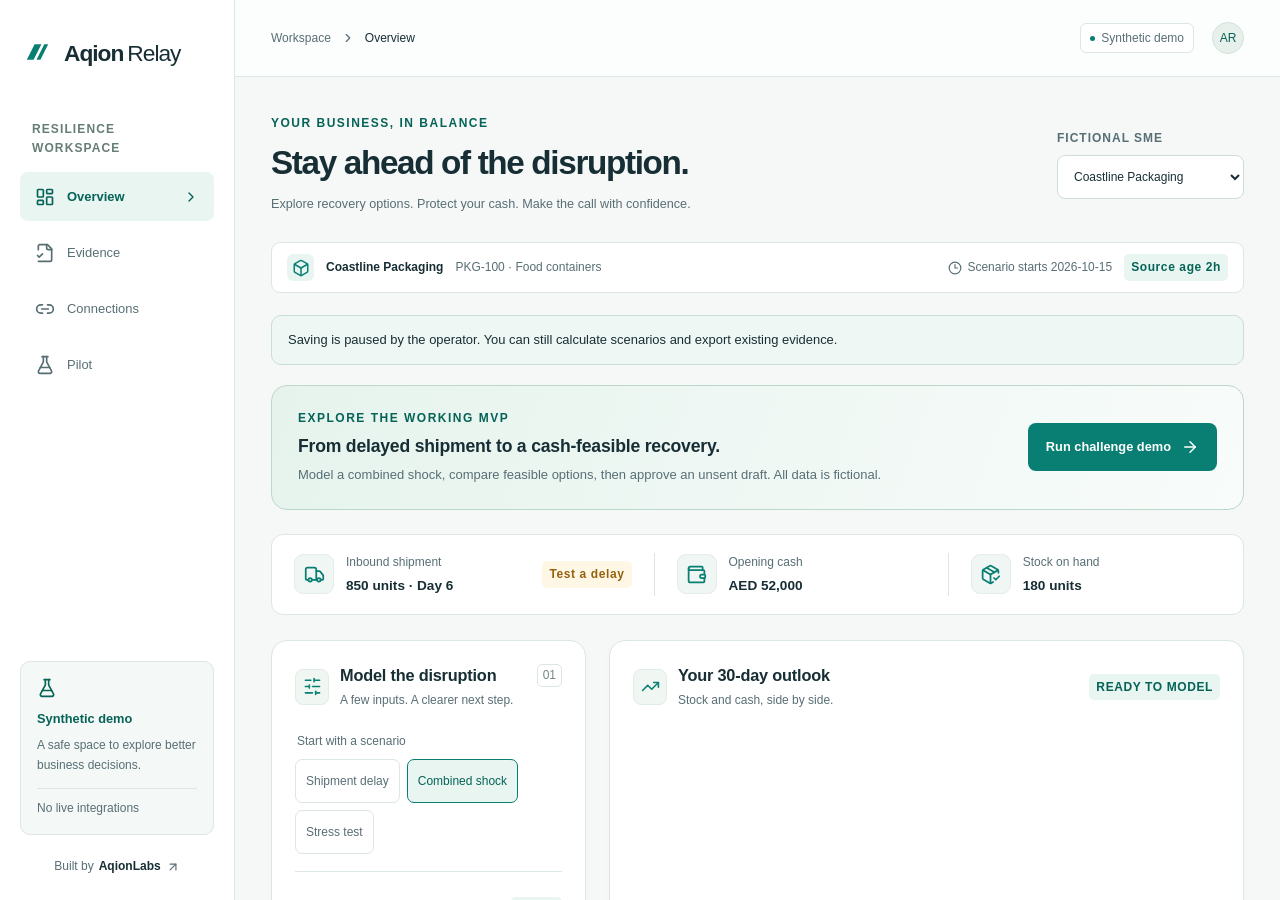
Test case: write-disabled mode prevents saving and importing while preserving calculation
This screenshot has width=1280, height=900.
Check: the heading "Stay ahead of the disruption." is shown, box [271,144,691,182]
Check: the text "Saving is paused" is shown, box [288,332,837,347]
Step 1. Click the button "Connections" → x=117, y=309, box [20,284,214,333]
(page scrolled)
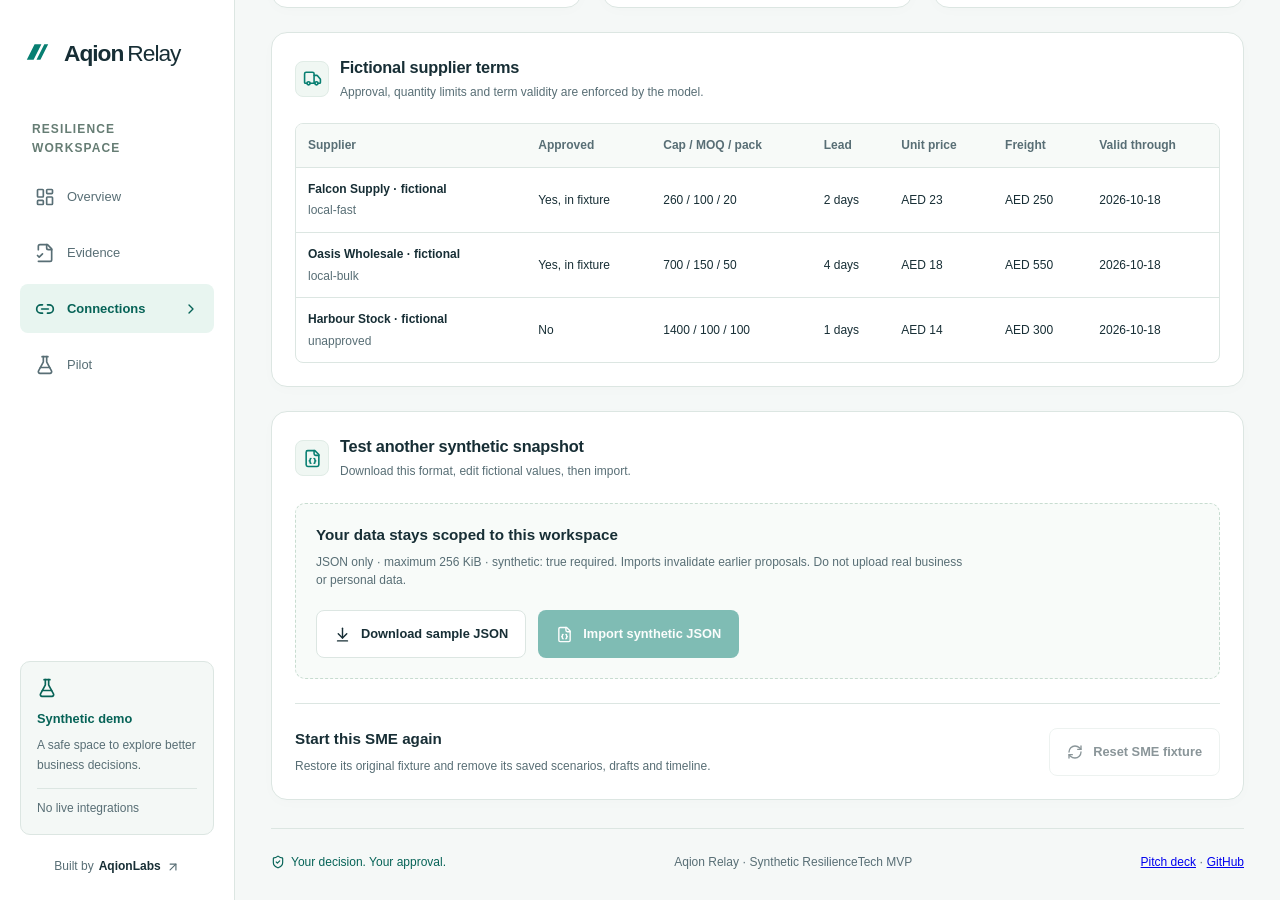
Check: the file field labelled "Import synthetic JSON" is disabled, box [538,610,739,658]
Check: the button "Reset SME fixture" is disabled, box [1049,728,1220,776]
